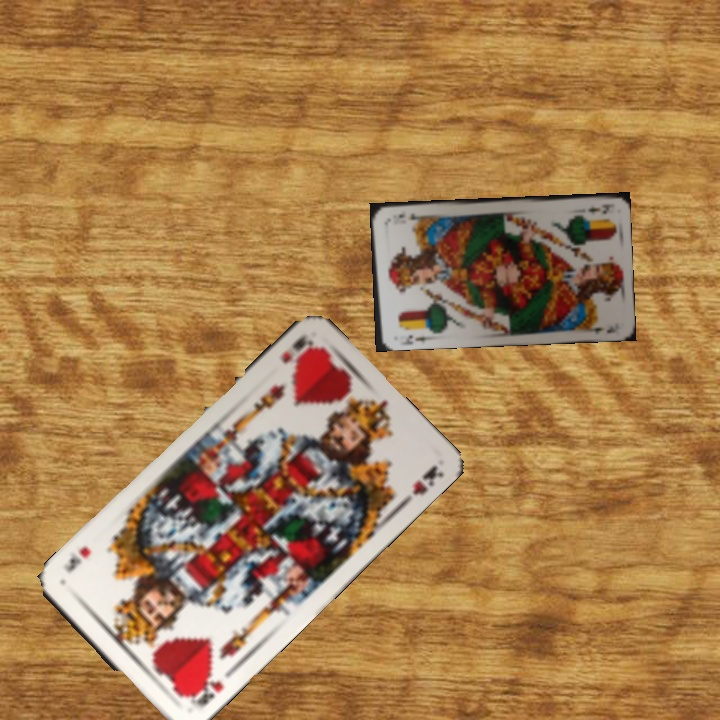EK: (584, 199, 614, 217), (397, 331, 431, 346)
HK: (183, 670, 227, 709), (276, 331, 316, 366)
